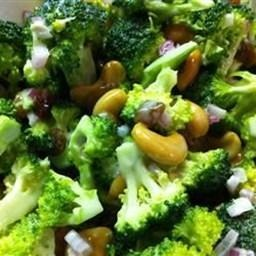background: (0, 0, 102, 102)
